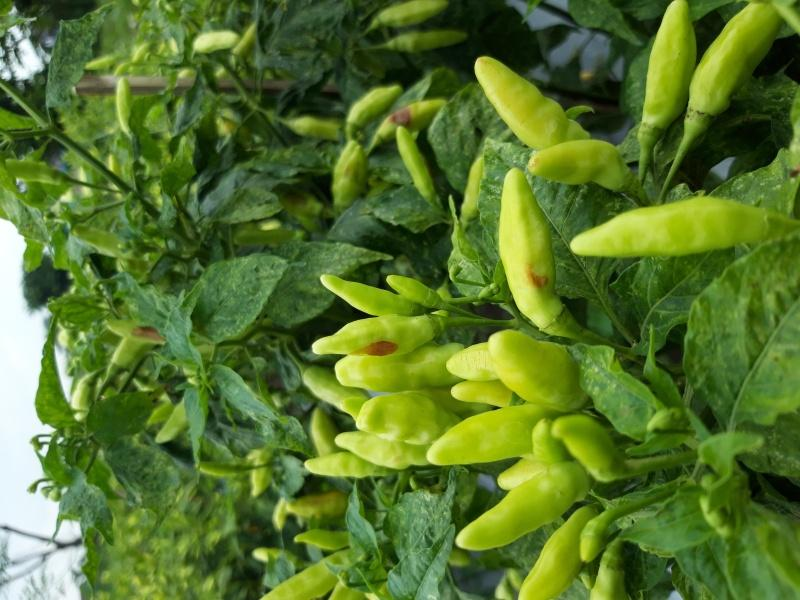antraknosa: (499, 167, 564, 331), (310, 313, 431, 359), (379, 97, 445, 144)
cabai_normal: (456, 460, 590, 550), (569, 196, 766, 257), (687, 1, 777, 118), (474, 55, 584, 148), (427, 404, 562, 466), (486, 329, 585, 411), (640, 1, 698, 130), (355, 391, 461, 441), (254, 551, 359, 600), (334, 349, 469, 387), (528, 141, 626, 190), (318, 270, 417, 316), (550, 414, 615, 472), (333, 431, 429, 465), (397, 125, 436, 194), (304, 449, 387, 480), (389, 27, 470, 54), (348, 83, 400, 124), (372, 1, 449, 27), (286, 491, 349, 519), (385, 273, 434, 304), (294, 529, 357, 551)
